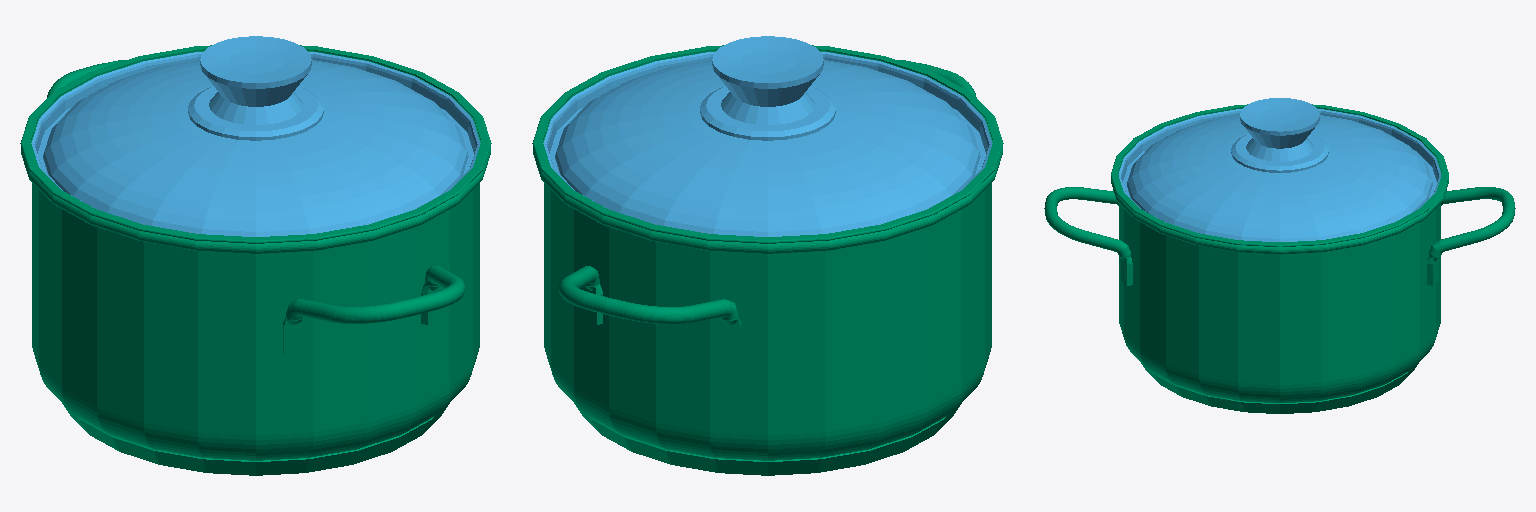
The robot description file, URDF, robot "partnet_uc541d7b9-362c-4cdf-9a52-ab07c0bd80d4":
<?xml version="1.0" ?>
<robot name="partnet_uc541d7b9-362c-4cdf-9a52-ab07c0bd80d4">
	<link name="base"/>
	<link name="link_0">
		<visual name="lid-1">
			<origin xyz="0 0 0"/>
			<geometry>
				<mesh filename="textured_objs/original-14.obj"/>
			</geometry>
		</visual>
		<visual name="lid-1">
			<origin xyz="0 0 0"/>
			<geometry>
				<mesh filename="textured_objs/original-12.obj"/>
			</geometry>
		</visual>
		<visual name="lid-1">
			<origin xyz="0 0 0"/>
			<geometry>
				<mesh filename="textured_objs/original-11.obj"/>
			</geometry>
		</visual>
		<visual name="lid-1">
			<origin xyz="0 0 0"/>
			<geometry>
				<mesh filename="textured_objs/original-19.obj"/>
			</geometry>
		</visual>
		<visual name="lid-1">
			<origin xyz="0 0 0"/>
			<geometry>
				<mesh filename="textured_objs/original-20.obj"/>
			</geometry>
		</visual>
		<visual name="lid-1">
			<origin xyz="0 0 0"/>
			<geometry>
				<mesh filename="textured_objs/original-15.obj"/>
			</geometry>
		</visual>
		<collision>
			<origin xyz="0 0 0"/>
			<geometry>
				<mesh filename="textured_objs/original-14.obj"/>
			</geometry>
		</collision>
		<collision>
			<origin xyz="0 0 0"/>
			<geometry>
				<mesh filename="textured_objs/original-12.obj"/>
			</geometry>
		</collision>
		<collision>
			<origin xyz="0 0 0"/>
			<geometry>
				<mesh filename="textured_objs/original-11.obj"/>
			</geometry>
		</collision>
		<collision>
			<origin xyz="0 0 0"/>
			<geometry>
				<mesh filename="textured_objs/original-19.obj"/>
			</geometry>
		</collision>
		<collision>
			<origin xyz="0 0 0"/>
			<geometry>
				<mesh filename="textured_objs/original-20.obj"/>
			</geometry>
		</collision>
		<collision>
			<origin xyz="0 0 0"/>
			<geometry>
				<mesh filename="textured_objs/original-15.obj"/>
			</geometry>
		</collision>
	</link>
	<joint name="joint_0" type="prismatic">
		<origin xyz="0 0 0"/>
		<axis xyz="0 1 0"/>
		<child link="link_0"/>
		<parent link="link_1"/>
		<limit lower="0" upper="0.07"/>
	</joint>
	<link name="link_1">
		<visual name="base_body-2">
			<origin xyz="0 0 0"/>
			<geometry>
				<mesh filename="textured_objs/original-3.obj"/>
			</geometry>
		</visual>
		<visual name="base_body-2">
			<origin xyz="0 0 0"/>
			<geometry>
				<mesh filename="textured_objs/original-2.obj"/>
			</geometry>
		</visual>
		<visual name="base_body-2">
			<origin xyz="0 0 0"/>
			<geometry>
				<mesh filename="textured_objs/original-16.obj"/>
			</geometry>
		</visual>
		<visual name="base_body-2">
			<origin xyz="0 0 0"/>
			<geometry>
				<mesh filename="textured_objs/original-8.obj"/>
			</geometry>
		</visual>
		<visual name="base_body-2">
			<origin xyz="0 0 0"/>
			<geometry>
				<mesh filename="textured_objs/original-5.obj"/>
			</geometry>
		</visual>
		<visual name="base_body-2">
			<origin xyz="0 0 0"/>
			<geometry>
				<mesh filename="textured_objs/original-6.obj"/>
			</geometry>
		</visual>
		<visual name="base_body-2">
			<origin xyz="0 0 0"/>
			<geometry>
				<mesh filename="textured_objs/original-18.obj"/>
			</geometry>
		</visual>
		<visual name="base_body-2">
			<origin xyz="0 0 0"/>
			<geometry>
				<mesh filename="textured_objs/original-17.obj"/>
			</geometry>
		</visual>
		<visual name="base_body-2">
			<origin xyz="0 0 0"/>
			<geometry>
				<mesh filename="textured_objs/original-7.obj"/>
			</geometry>
		</visual>
		<collision>
			<origin xyz="0 0 0"/>
			<geometry>
				<mesh filename="textured_objs/original-3.obj"/>
			</geometry>
		</collision>
		<collision>
			<origin xyz="0 0 0"/>
			<geometry>
				<mesh filename="textured_objs/original-2.obj"/>
			</geometry>
		</collision>
		<collision>
			<origin xyz="0 0 0"/>
			<geometry>
				<mesh filename="textured_objs/original-16.obj"/>
			</geometry>
		</collision>
		<collision>
			<origin xyz="0 0 0"/>
			<geometry>
				<mesh filename="textured_objs/original-8.obj"/>
			</geometry>
		</collision>
		<collision>
			<origin xyz="0 0 0"/>
			<geometry>
				<mesh filename="textured_objs/original-5.obj"/>
			</geometry>
		</collision>
		<collision>
			<origin xyz="0 0 0"/>
			<geometry>
				<mesh filename="textured_objs/original-6.obj"/>
			</geometry>
		</collision>
		<collision>
			<origin xyz="0 0 0"/>
			<geometry>
				<mesh filename="textured_objs/original-18.obj"/>
			</geometry>
		</collision>
		<collision>
			<origin xyz="0 0 0"/>
			<geometry>
				<mesh filename="textured_objs/original-17.obj"/>
			</geometry>
		</collision>
		<collision>
			<origin xyz="0 0 0"/>
			<geometry>
				<mesh filename="textured_objs/original-7.obj"/>
			</geometry>
		</collision>
	</link>
	<joint name="joint_1" type="fixed">
		<origin rpy="1.570796326794897 0 -1.570796326794897" xyz="0 0 0"/>
		<child link="link_1"/>
		<parent link="base"/>
	</joint>
</robot>

--- What the picture shows (computed from the rendered views, not written in the file) ---
The picture shows the robot from 3 angles, left to right: view 1: azimuth 30°, elevation 25°; view 2: azimuth 150°, elevation 25°; view 3: azimuth 270°, elevation 25°; orthographic projection.
Robot: partnet_uc541d7b9-362c-4cdf-9a52-ab07c0bd80d4 — 3 links, 2 joints (1 prismatic, 1 fixed); root link base; default pose: all joints at 0.
Visible links, largest first — view 1: link_1, link_0; view 2: link_1, link_0; view 3: link_1, link_0.
Boxes of the visible links, bbox=[...] form: link_1: bbox=[20, 45, 491, 475]; link_0: bbox=[31, 36, 480, 236]; link_1: bbox=[532, 45, 1003, 475]; link_0: bbox=[543, 36, 992, 236]; link_1: bbox=[1044, 104, 1515, 413]; link_0: bbox=[1119, 98, 1440, 241].
Bounding box of the posed robot: 1.44 × 2 × 1.13 m (x, y, z).
15 mesh visuals loaded from 15 distinct referenced files (15 OBJ).